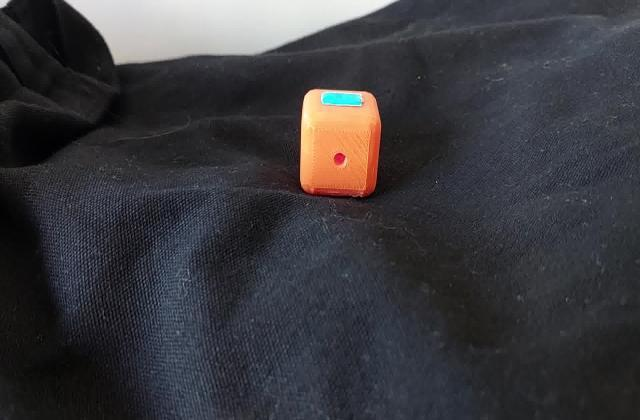blue: (324, 94, 360, 104)
cube: (296, 84, 383, 200)
